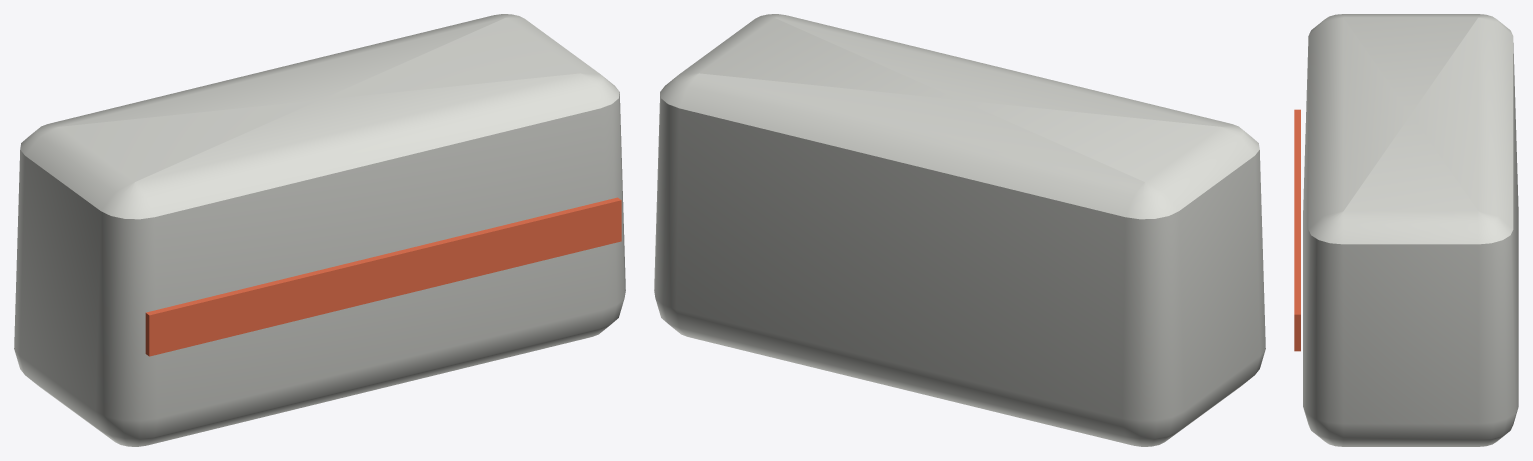
Rendered from prop_safetyblock.glb.
3 views of the same model, side by side, from view 1: azimuth 30°, elevation 25°; view 2: azimuth 150°, elevation 25°; view 3: azimuth 270°, elevation 25° (orthographic). The views are drawn at different scales.
Visible parts, largest first — view 1: energy-barrier; view 2: energy-barrier; view 3: energy-barrier.
Boxes of the visible parts, x1,y1,x2,y2 form: energy-barrier: (14, 14, 625, 446); energy-barrier: (654, 14, 1265, 446); energy-barrier: (1294, 14, 1518, 446).
Bounding box in the file's own units: 2 × 0.95 × 0.8325.
